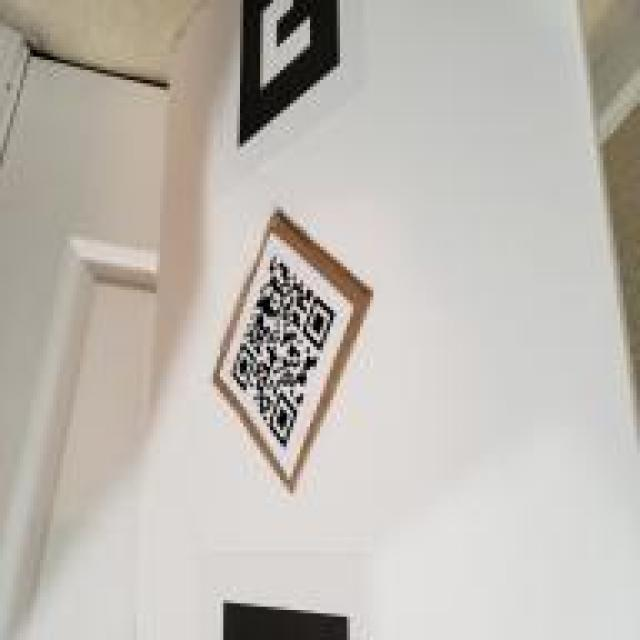QR_CODE: (226, 248, 352, 464)
